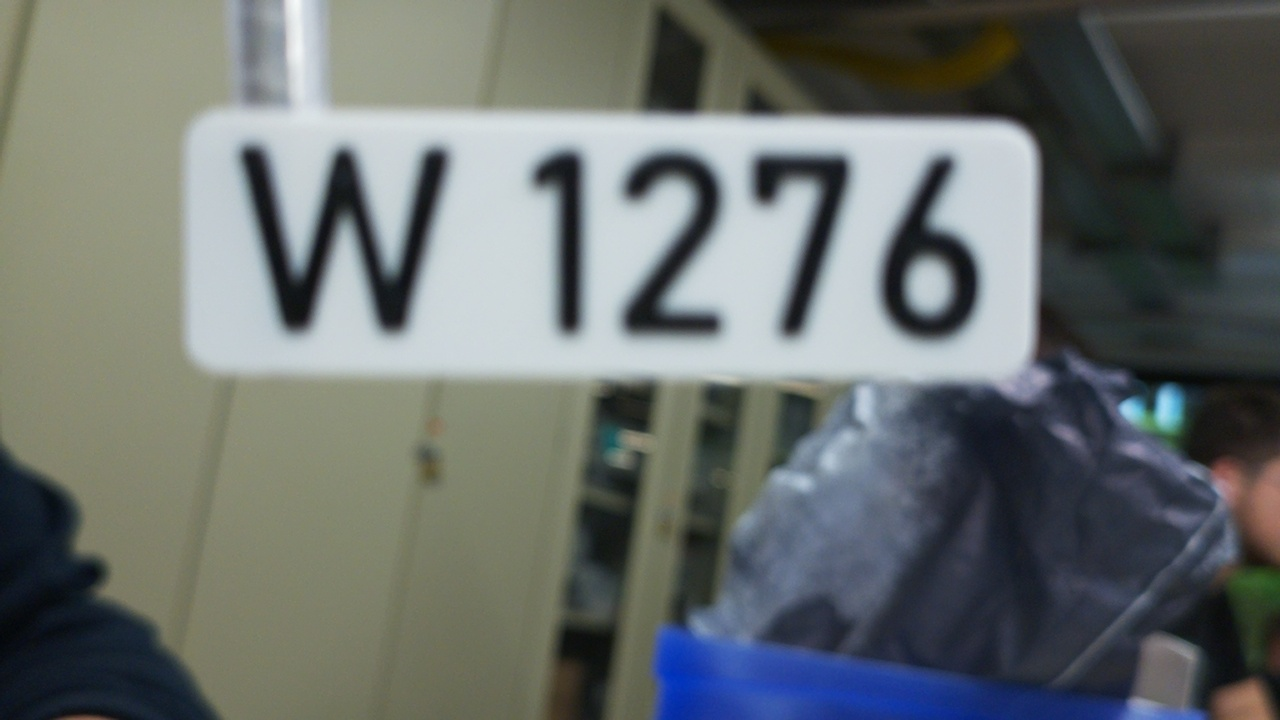license_plate: (178, 103, 1045, 385)
